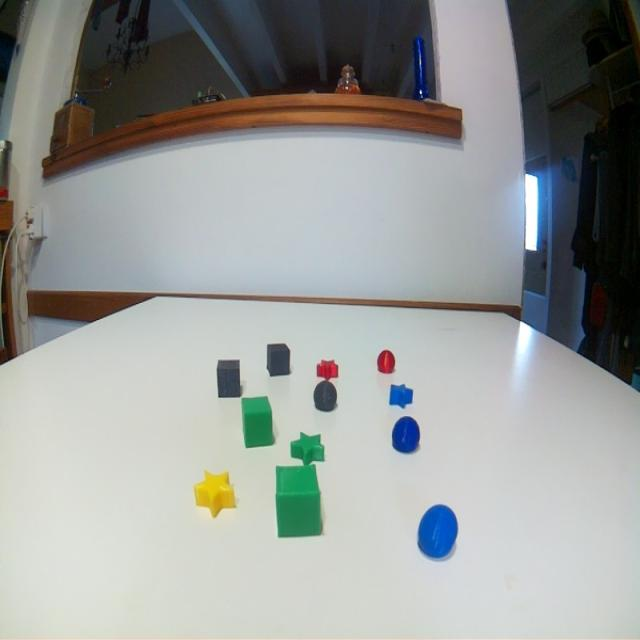ball: (415, 501, 460, 562), (389, 412, 423, 458), (311, 377, 339, 412), (375, 345, 397, 378)
cube: (273, 463, 325, 541), (239, 392, 277, 453), (265, 339, 294, 381), (215, 355, 241, 399)
star: (192, 464, 239, 520), (289, 428, 328, 468), (387, 380, 415, 409), (314, 355, 342, 382)
